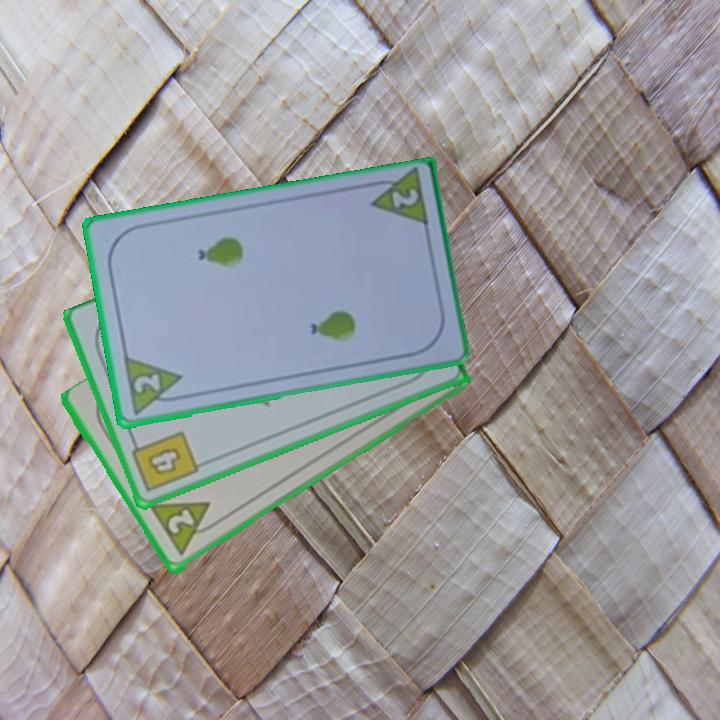2p: (119, 354, 187, 419), (163, 506, 197, 538), (387, 185, 422, 211)
4b: (127, 427, 202, 496)
